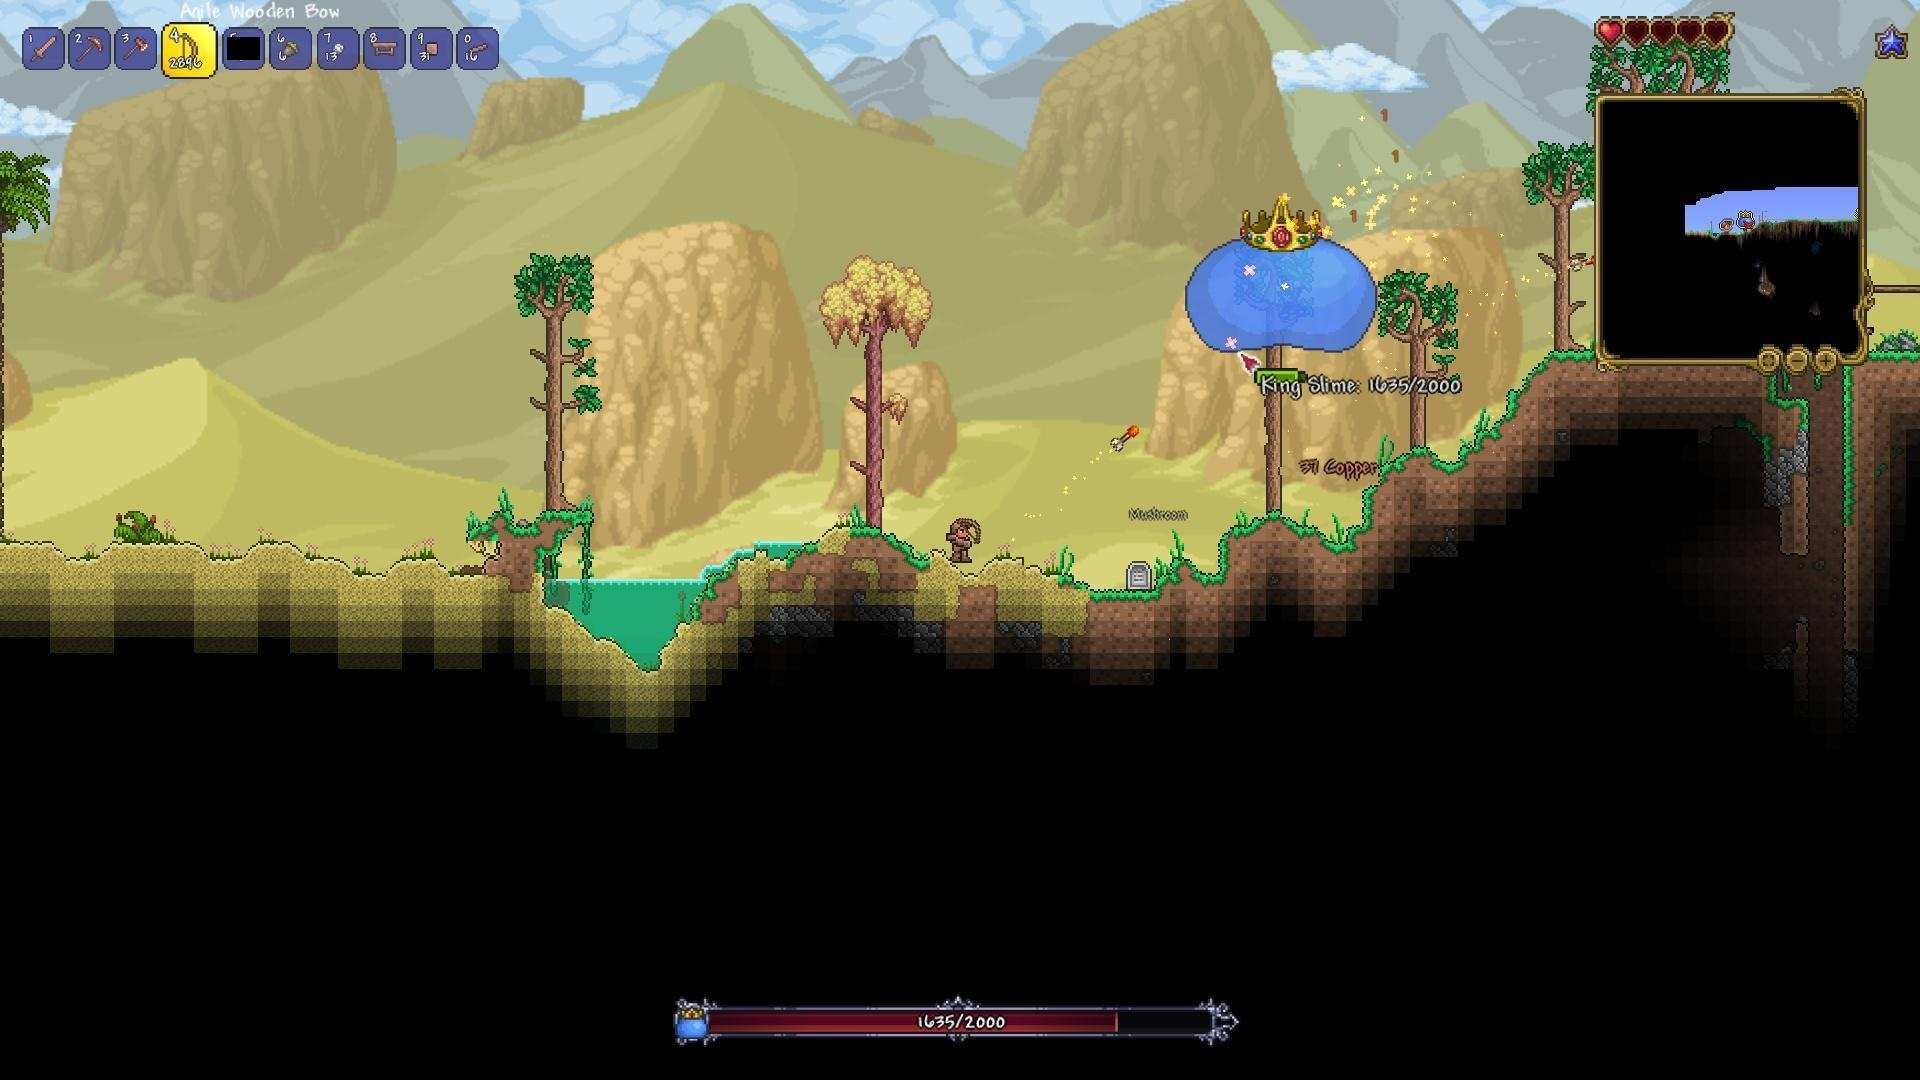workbench: (367, 34, 404, 59)
